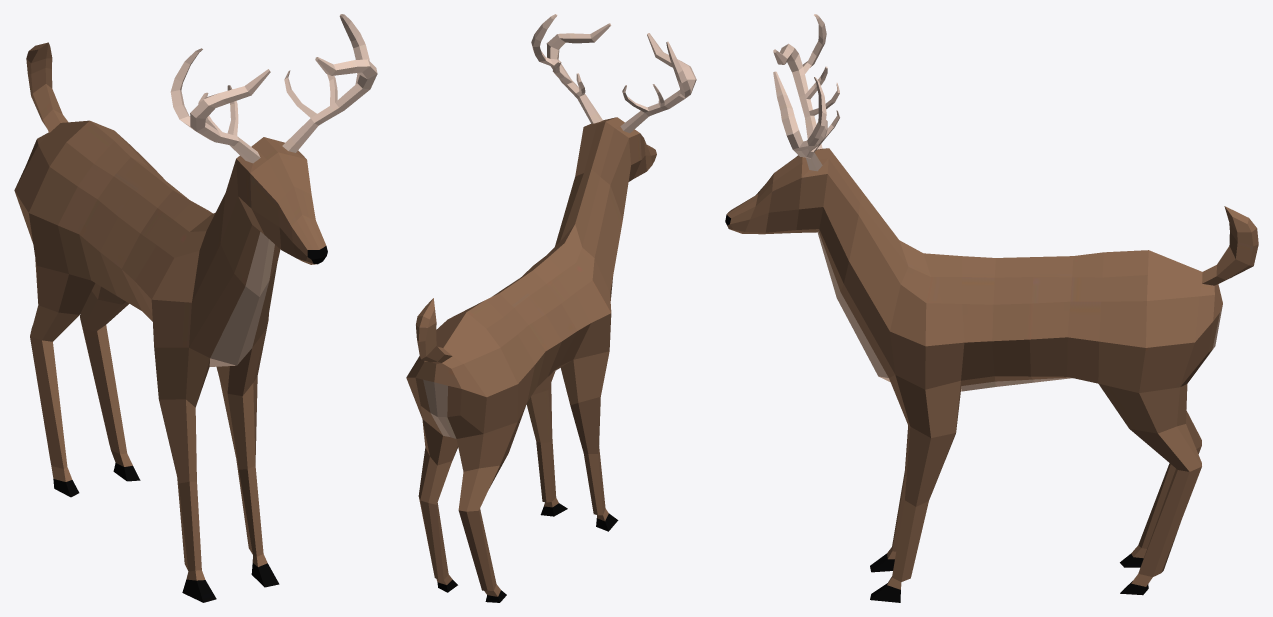
File: male_deer.dae
3 renders of one model, left to right at view 1: azimuth 30°, elevation 25°; view 2: azimuth 150°, elevation 25°; view 3: azimuth 270°, elevation 25°, orthographic. The views are drawn at different scales.
Parts seen in each view (by area): view 1: 05deerFinal; view 2: 05deerFinal; view 3: 05deerFinal.
Part boxes in pixels (x1,y1,x2,y2): 05deerFinal: [14, 14, 377, 602]; 05deerFinal: [406, 14, 696, 602]; 05deerFinal: [725, 14, 1258, 602].
Size of the model in its own units: 0.5786 by 1.48 by 1.65.
Materials: 1 (1 with a texture image).
